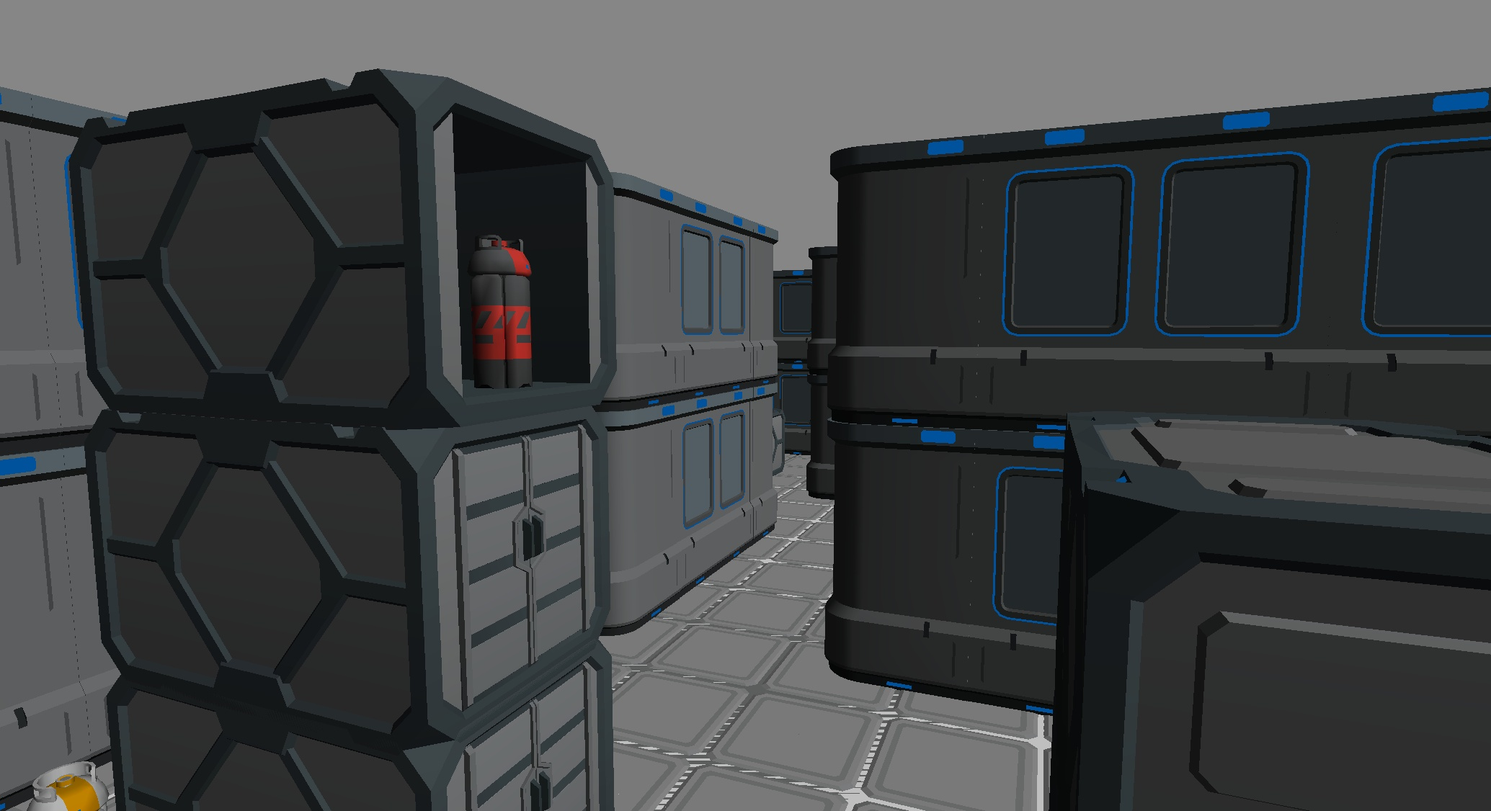red_barrel: (468, 235, 515, 387), (502, 243, 533, 387)
yellow_barrel: (18, 761, 114, 810)
